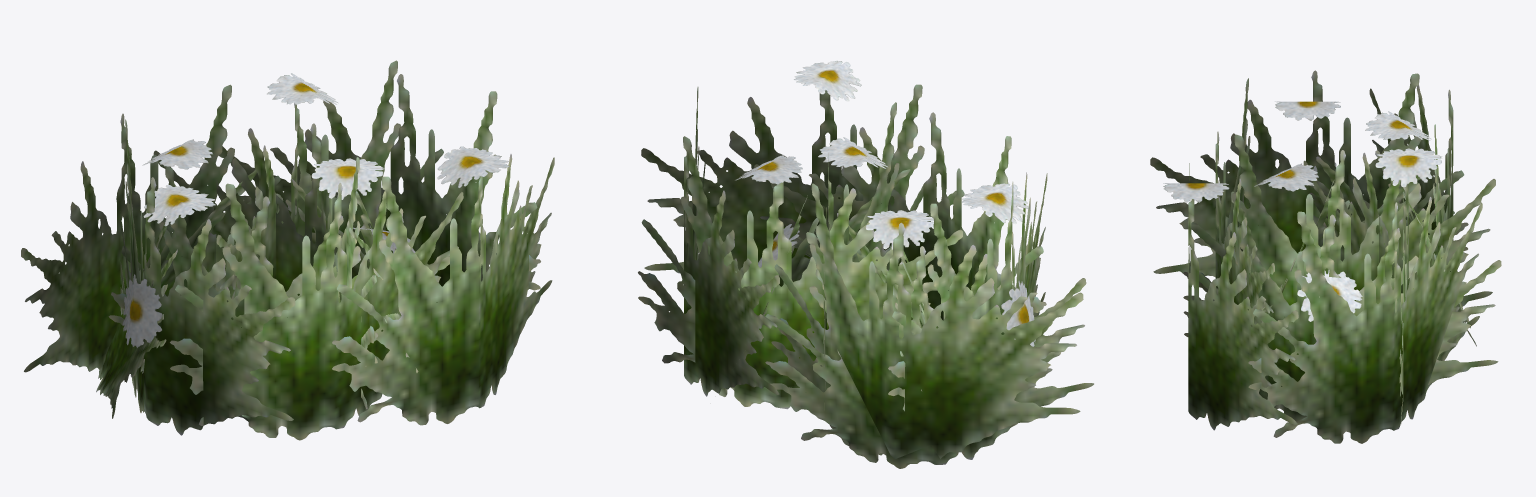
Rendered from Daisys.fbx.
3 renders of one model, left to right at view 1: azimuth 30°, elevation 25°; view 2: azimuth 150°, elevation 25°; view 3: azimuth 270°, elevation 25°, orthographic. The views are drawn at different scales.
Parts seen in each view (by area): view 1: Daisys; view 2: Daisys; view 3: Daisys.
Boxes of the visible parts, x1,y1,x2,y2 form: Daisys: [21, 60, 554, 440]; Daisys: [638, 60, 1093, 468]; Daisys: [1150, 70, 1501, 443].
Bounding box in the file's own units: 0.5933 × 0.346 × 0.4188.
Materials: 1 (1 with a texture image).
